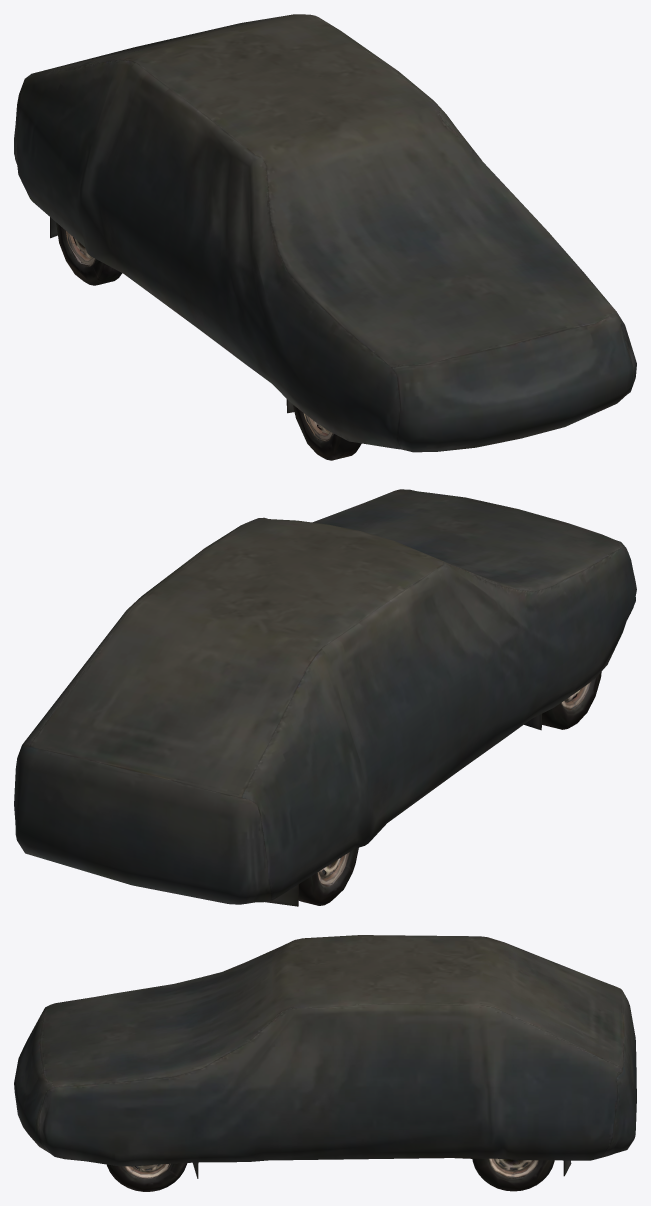
Rendered from covered_car.glb.
3 renders of one model, top to bottom at view 1: azimuth 30°, elevation 25°; view 2: azimuth 150°, elevation 25°; view 3: azimuth 270°, elevation 25°, orthographic. The views are drawn at different scales.
Visible parts, largest first — view 1: covered_car_wheel_01; view 2: covered_car_wheel_01; view 3: covered_car_wheel_01.
Boxes of the visible parts, <box> form: covered_car_wheel_01: <box>14,14,636,460</box>; covered_car_wheel_01: <box>14,489,636,906</box>; covered_car_wheel_01: <box>14,935,636,1191</box>.
Bounding box in the file's own units: 1.79 × 1.41 × 4.38.
Materials: 1 (1 with a texture image).
